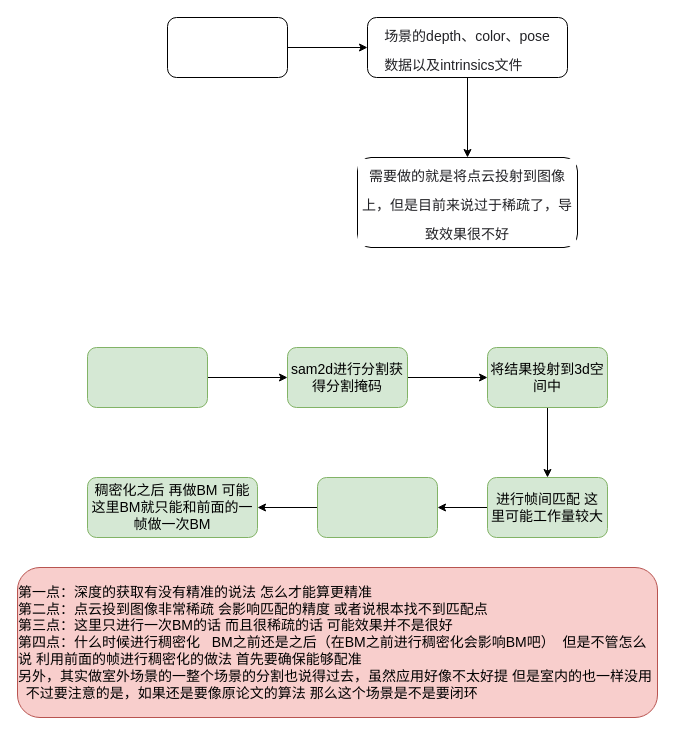
The diagram is 675 pixels wide and 735 high, and some of its shapes have lost their labels. The centre of each missing label's shape, as x and y in pixels:
NuSences: the point at 227,47
一帧点云: the point at 147,377
匹配之后 使用前面的帧先稠密化: the point at 377,507
